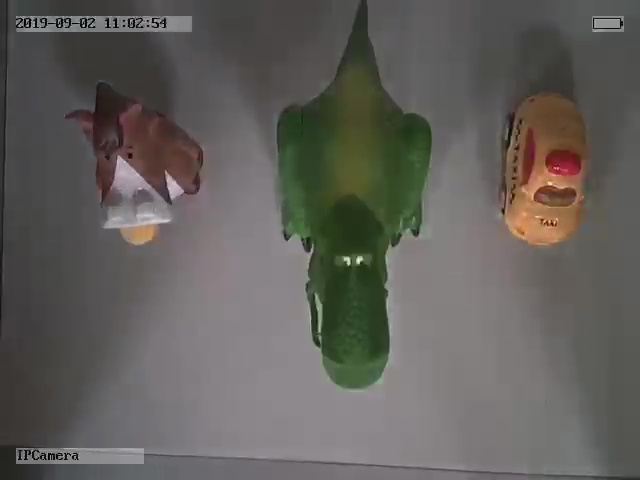car: (498, 93, 590, 247)
horse: (62, 85, 202, 247)
rex: (275, 1, 434, 392)
